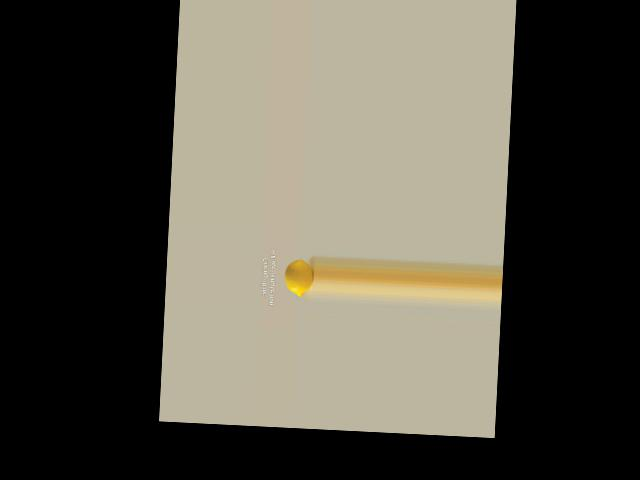lemon: (282, 257, 312, 296)
